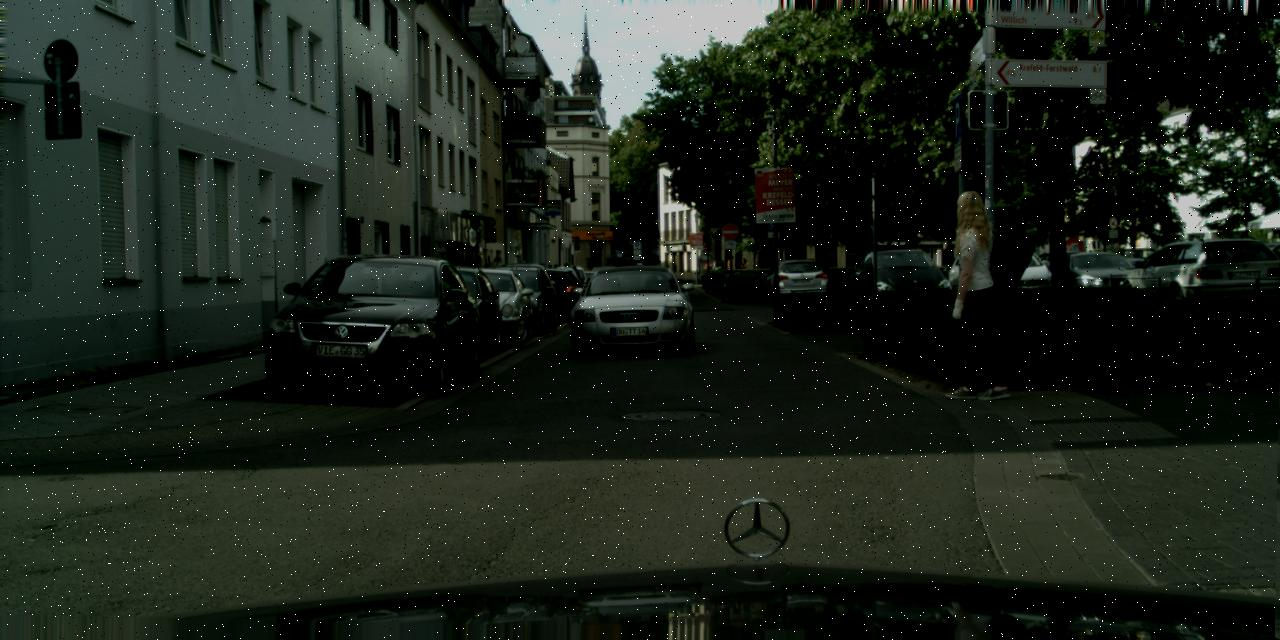ped: (932, 190, 1017, 398), (725, 255, 737, 284), (563, 261, 581, 279), (738, 258, 748, 282), (709, 259, 722, 269), (704, 264, 706, 269)
